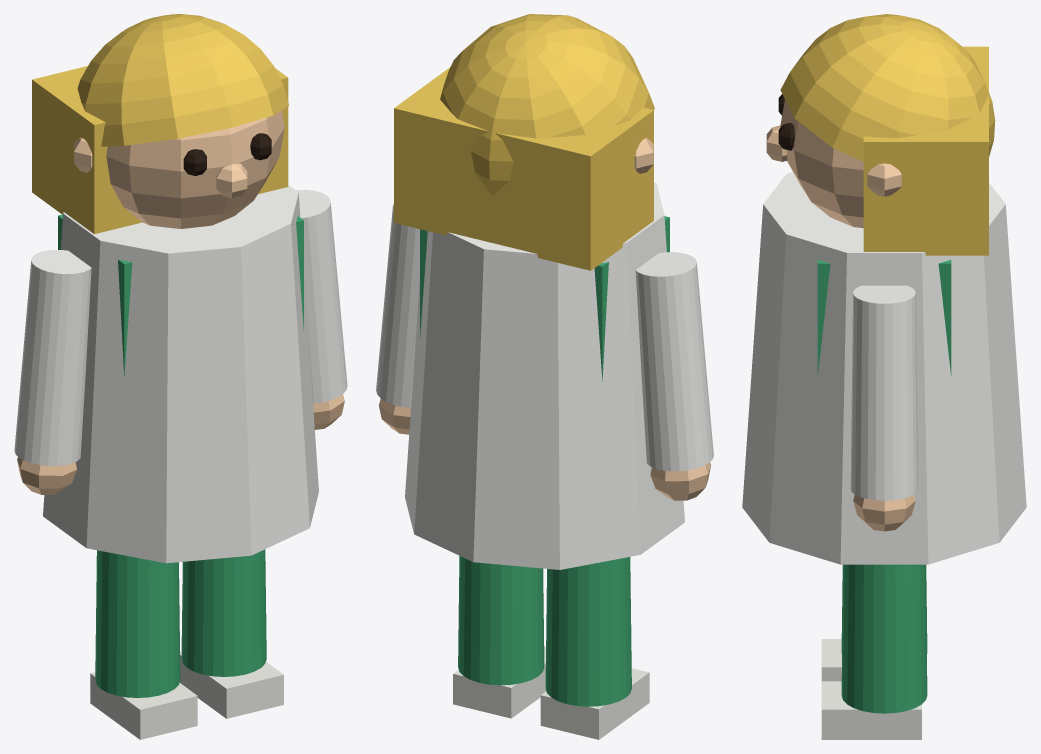
File: VIKA.glb
The picture shows the model from 3 angles, left to right: view 1: azimuth 30°, elevation 25°; view 2: azimuth 150°, elevation 25°; view 3: azimuth 270°, elevation 25°; orthographic projection.
Visible parts, largest first — view 1: vika, head, leg_left, arm_left, leg_right, arm_right, torso; view 2: vika, head, arm_left, leg_left, leg_right, arm_right, torso; view 3: vika, head, leg_right, arm_right, torso, leg_left.
Part boxes in pixels (x1,y1,x2,y2): vika: (43, 185, 318, 563); head: (32, 14, 289, 233); leg_left: (90, 550, 197, 739); arm_left: (14, 250, 91, 494); leg_right: (179, 549, 283, 718); arm_right: (296, 189, 347, 429); torso: (58, 214, 303, 375); vika: (405, 182, 684, 569); head: (394, 14, 654, 270); arm_left: (635, 252, 713, 500); leg_left: (540, 557, 649, 739); leg_right: (453, 556, 546, 718); arm_right: (376, 201, 419, 434); torso: (420, 216, 669, 382); vika: (742, 172, 1026, 564); head: (766, 14, 995, 255); leg_right: (821, 564, 927, 739); arm_right: (850, 285, 918, 531); torso: (817, 260, 951, 376); leg_left: (821, 565, 927, 681).
Size of the model in its own units: 0.8653 by 1.72 by 0.6528.
